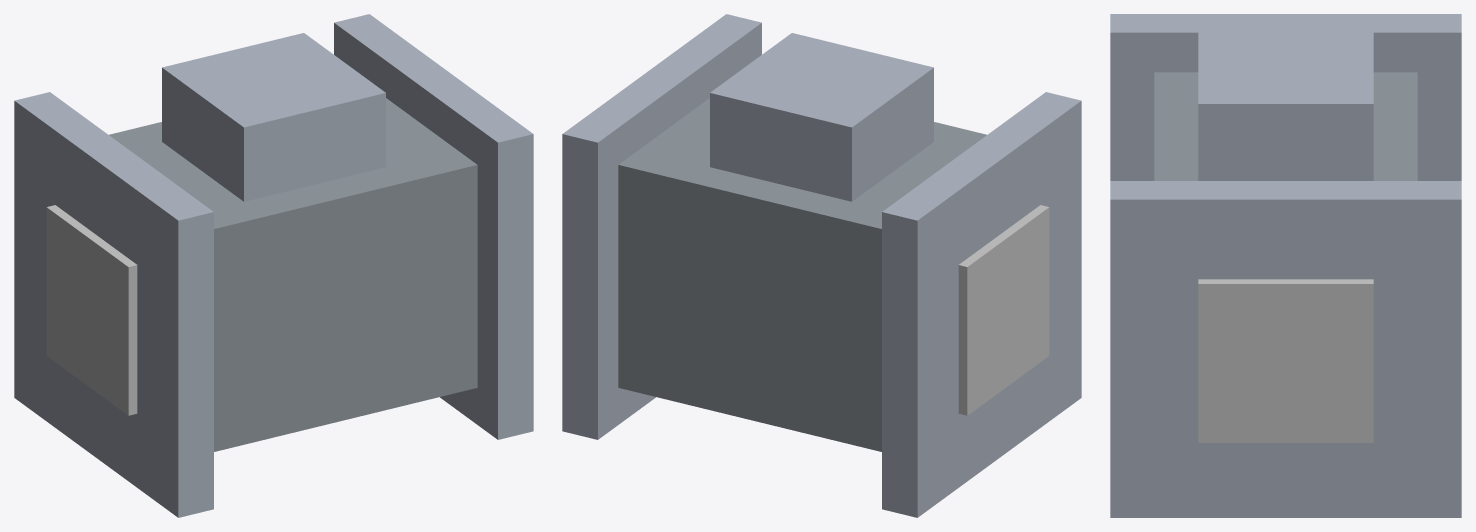
The model's file is cell_53.obj.
3 renders of one model, left to right at view 1: azimuth 30°, elevation 25°; view 2: azimuth 150°, elevation 25°; view 3: azimuth 270°, elevation 25°, orthographic. The views are drawn at different scales.
Bounding box in the file's own units: 0.9844 × 0.8438 × 0.75.
